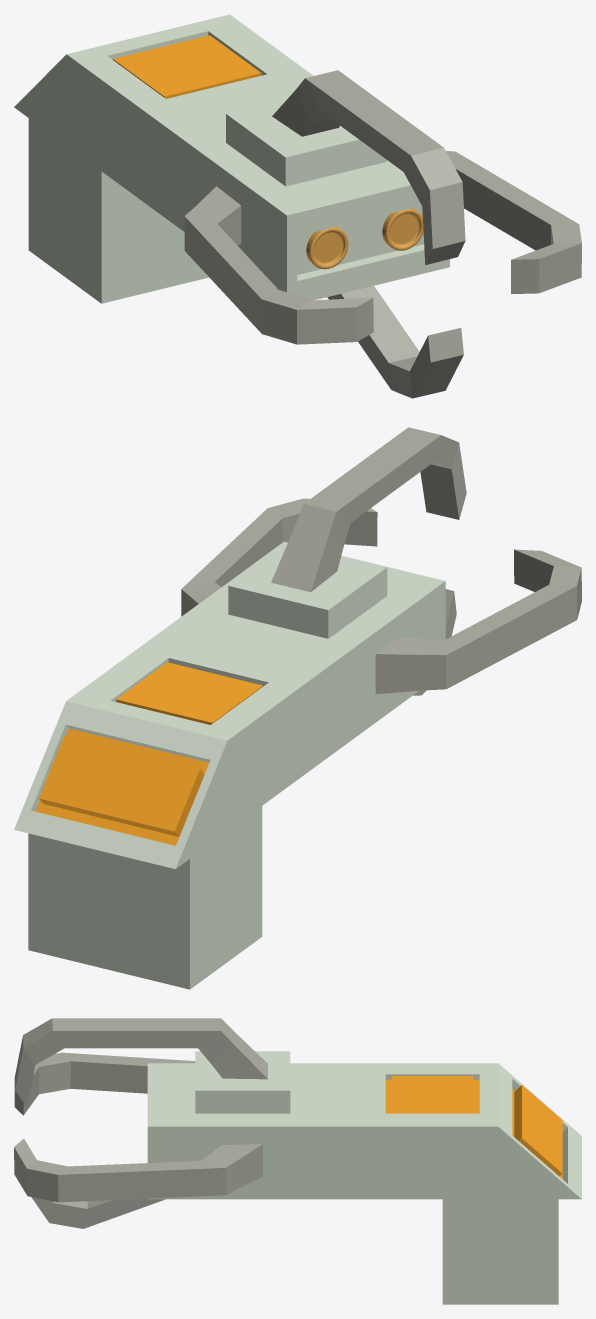
The picture shows the model from 3 angles, top to bottom: view 1: azimuth 30°, elevation 25°; view 2: azimuth 150°, elevation 25°; view 3: azimuth 270°, elevation 25°; orthographic projection. The views are drawn at different scales.
Visible parts, largest first — view 1: Плоскость, Куб.005, Куб.007, Куб.006, Куб.008, Цилиндр.001; view 2: Плоскость, Куб.005, Куб.007, Куб.006; view 3: Плоскость, Куб.006, Куб.005, Куб.007, Куб.008.
Boxes of the visible parts, left/top/right/bottom form: Плоскость: left=14, top=14, right=449, bottom=303; Куб.005: left=272, top=70, right=465, bottom=264; Куб.007: left=184, top=186, right=373, bottom=344; Куб.006: left=446, top=151, right=581, bottom=293; Куб.008: left=327, top=286, right=463, bottom=398; Цилиндр.001: left=306, top=208, right=423, bottom=269; Плоскость: left=14, top=541, right=445, bottom=989; Куб.005: left=271, top=427, right=466, bottom=592; Куб.007: left=375, top=549, right=581, bottom=693; Куб.006: left=181, top=498, right=377, bottom=616; Плоскость: left=147, top=1051, right=581, bottom=1304; Куб.006: left=14, top=1139, right=262, bottom=1202; Куб.005: left=14, top=1018, right=267, bottom=1106; Куб.007: left=14, top=1052, right=195, bottom=1115; Куб.008: left=31, top=1197, right=165, bottom=1228.
Size of the model in its own units: 278 by 263 by 546.
